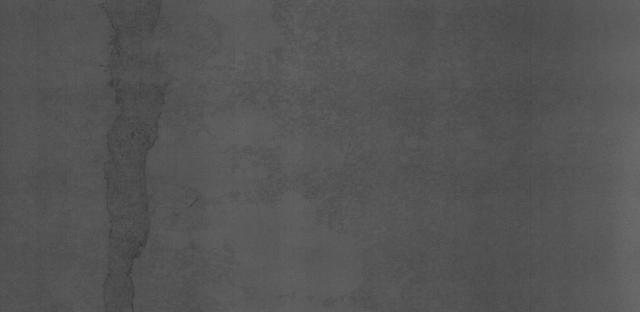water_spot: (92, 5, 187, 300)
